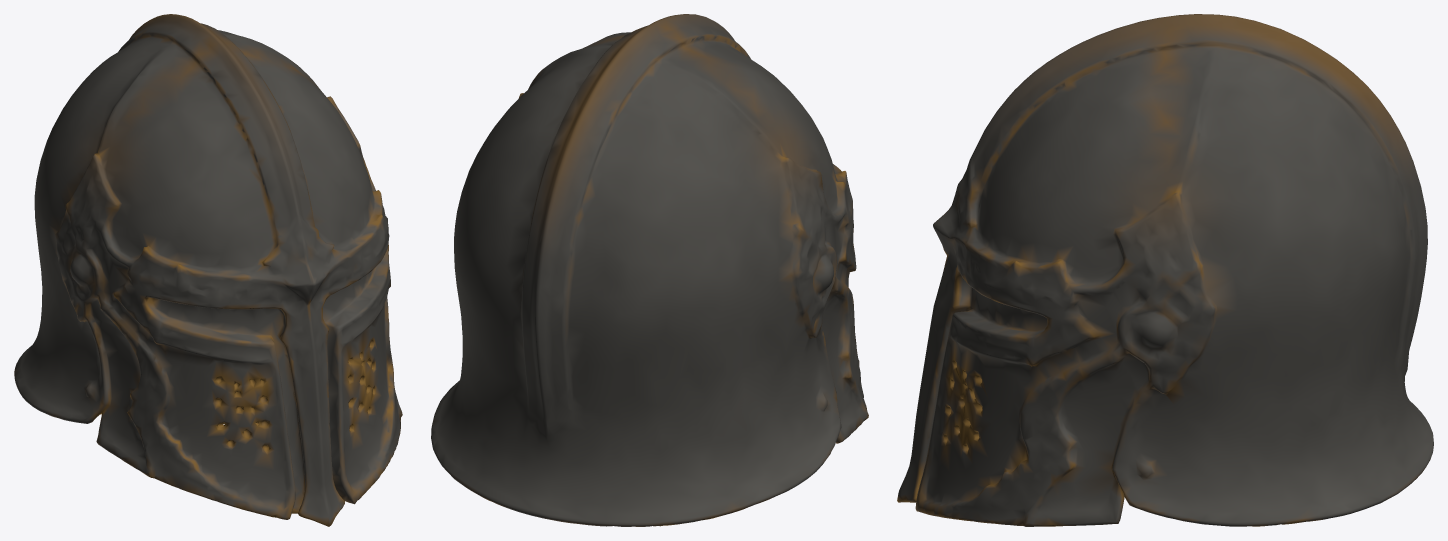
Rendered from elmo.glb.
The picture shows the model from 3 angles, left to right: view 1: azimuth 30°, elevation 25°; view 2: azimuth 150°, elevation 25°; view 3: azimuth 270°, elevation 25°; orthographic projection. The views are drawn at different scales.
Visible parts, largest first — view 1: tmpl4f4wbxn.ply; view 2: tmpl4f4wbxn.ply; view 3: tmpl4f4wbxn.ply.
Boxes of the visible parts, <box> form: tmpl4f4wbxn.ply: <box>14,14,402,526</box>; tmpl4f4wbxn.ply: <box>431,14,868,526</box>; tmpl4f4wbxn.ply: <box>897,14,1433,526</box>.
Size of the model in its own units: 1.6 by 1.96 by 1.96.
